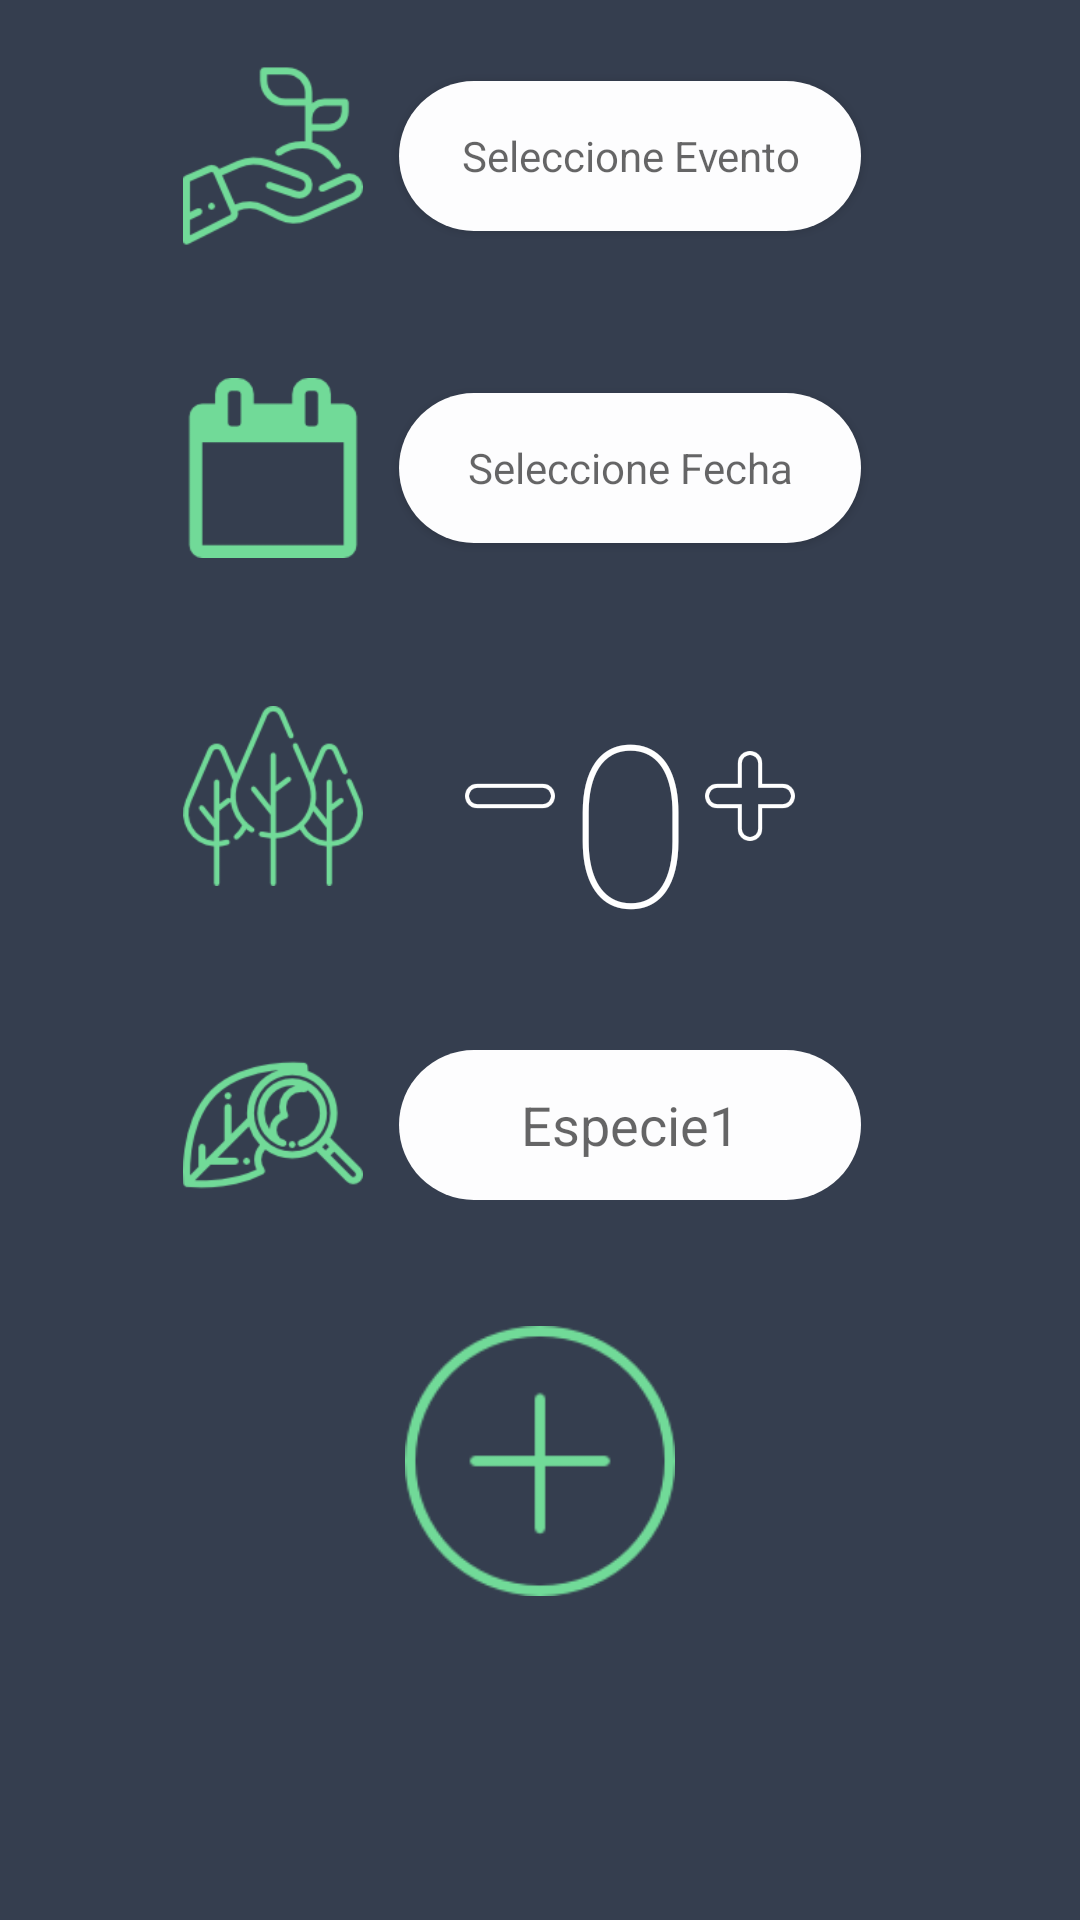

Named icons in this screenshot (1080x1920) and their bounding boxes, region(x1, y1, x2, y2):
brote: region(183, 67, 363, 245)
ingresar: region(405, 1326, 675, 1596)
mas: region(705, 751, 795, 841)
menos: region(465, 783, 555, 809)
observacion: region(183, 1061, 363, 1189)
